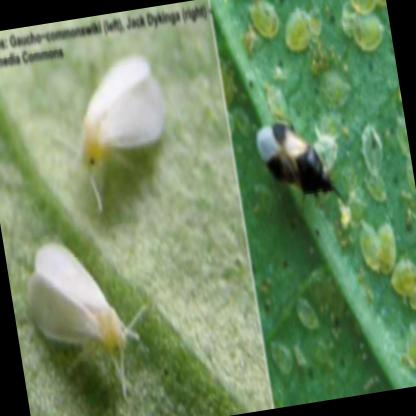whitefly: (23, 243, 126, 360), (76, 50, 165, 174)
